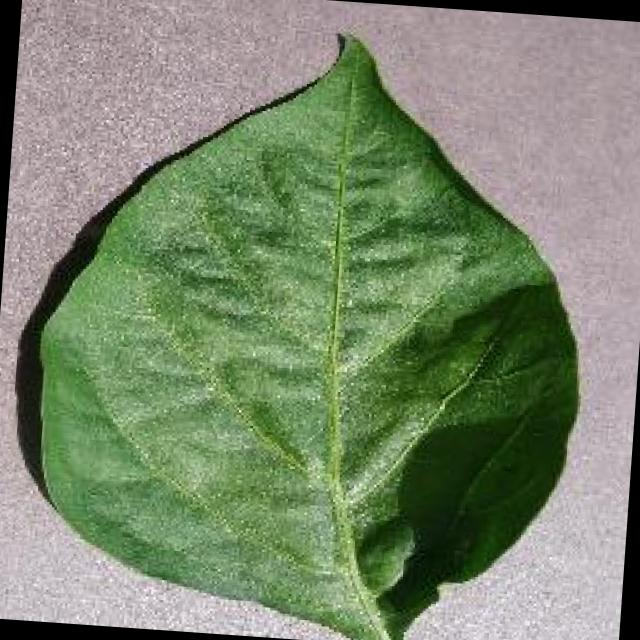Chilli_Healthy: (11, 8, 605, 640)
